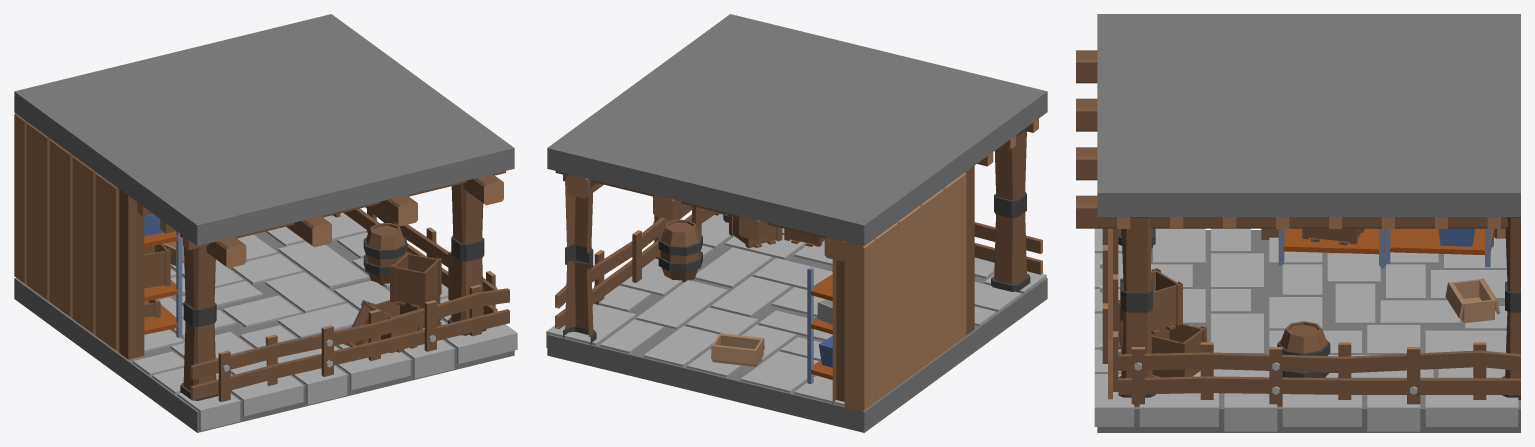
The model's file is ResourceStorage_Lvl_02_Corner_Left.fbx.
3 renders of one model, left to right at view 1: azimuth 30°, elevation 25°; view 2: azimuth 150°, elevation 25°; view 3: azimuth 270°, elevation 25°, orthographic. The views are drawn at different scales.
Parts seen in each view (by area): view 1: ResourceStorage_Lvl_02_Corner_Left; view 2: ResourceStorage_Lvl_02_Corner_Left; view 3: ResourceStorage_Lvl_02_Corner_Left.
Boxes of the visible parts, <box> form: ResourceStorage_Lvl_02_Corner_Left: <box>14,14,517,432</box>; ResourceStorage_Lvl_02_Corner_Left: <box>546,14,1047,432</box>; ResourceStorage_Lvl_02_Corner_Left: <box>1076,14,1520,432</box>.
Bounding box in the file's own units: 8.05 × 5 × 8.4.
